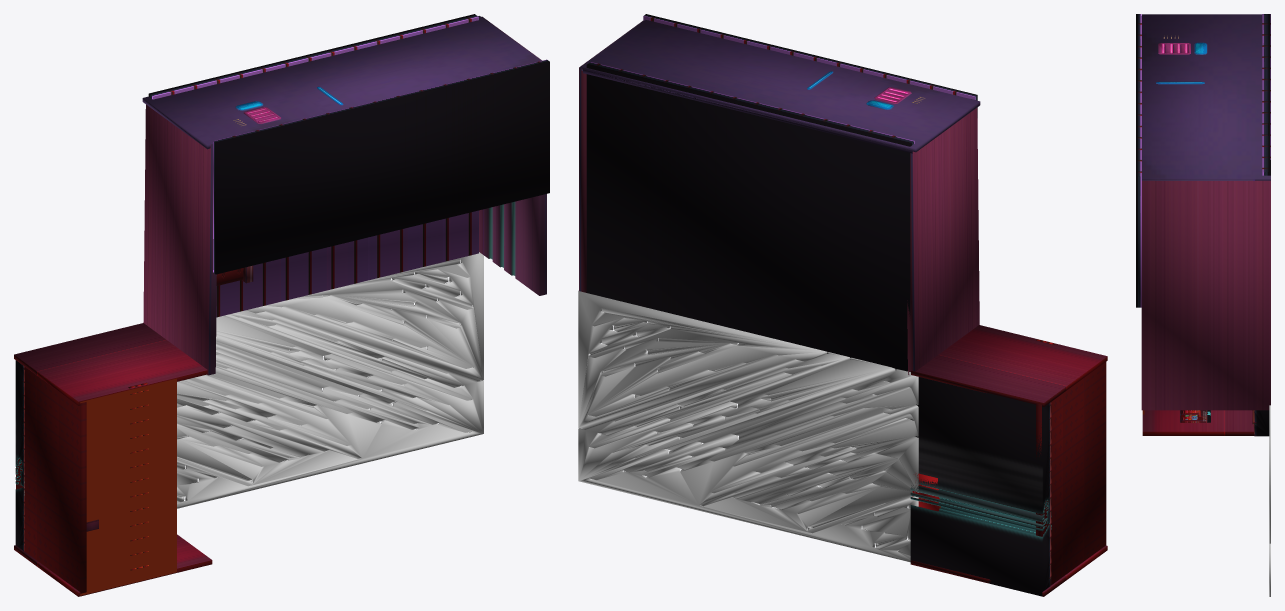
File: lounge.obj
3 renders of one model, left to right at view 1: azimuth 30°, elevation 25°; view 2: azimuth 150°, elevation 25°; view 3: azimuth 270°, elevation 25°, orthographic.
Size of the model in its own units: 733 by 633 by 183.
